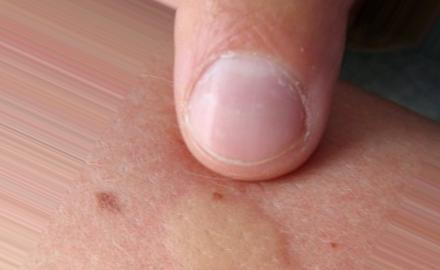Mosquito: (162, 181, 292, 268)
